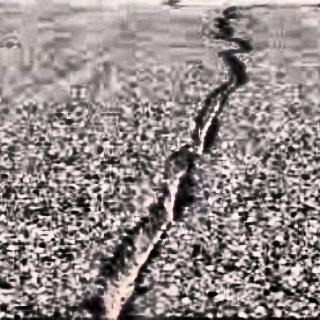crack: (74, 166, 182, 320), (166, 74, 218, 208), (209, 0, 254, 99)
